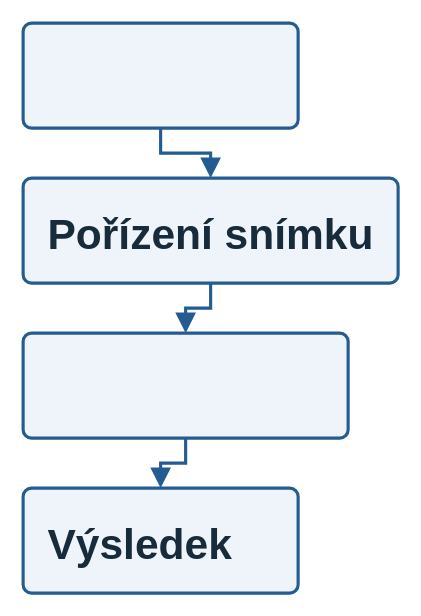
This 421x616 diagram has some shape labels left out. Here are the shapes that lost their labels. From the top down, the box of each, then its label:
(21, 21, 299, 129): Spuštění
(21, 331, 349, 439): Vyhodnocení
